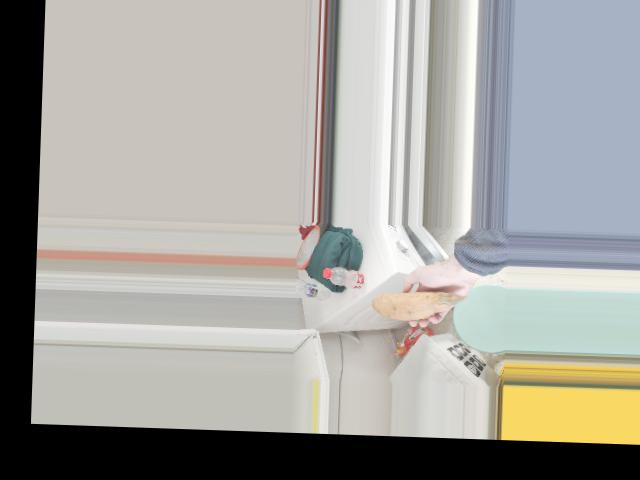sweet_potato: (380, 289, 461, 323)
